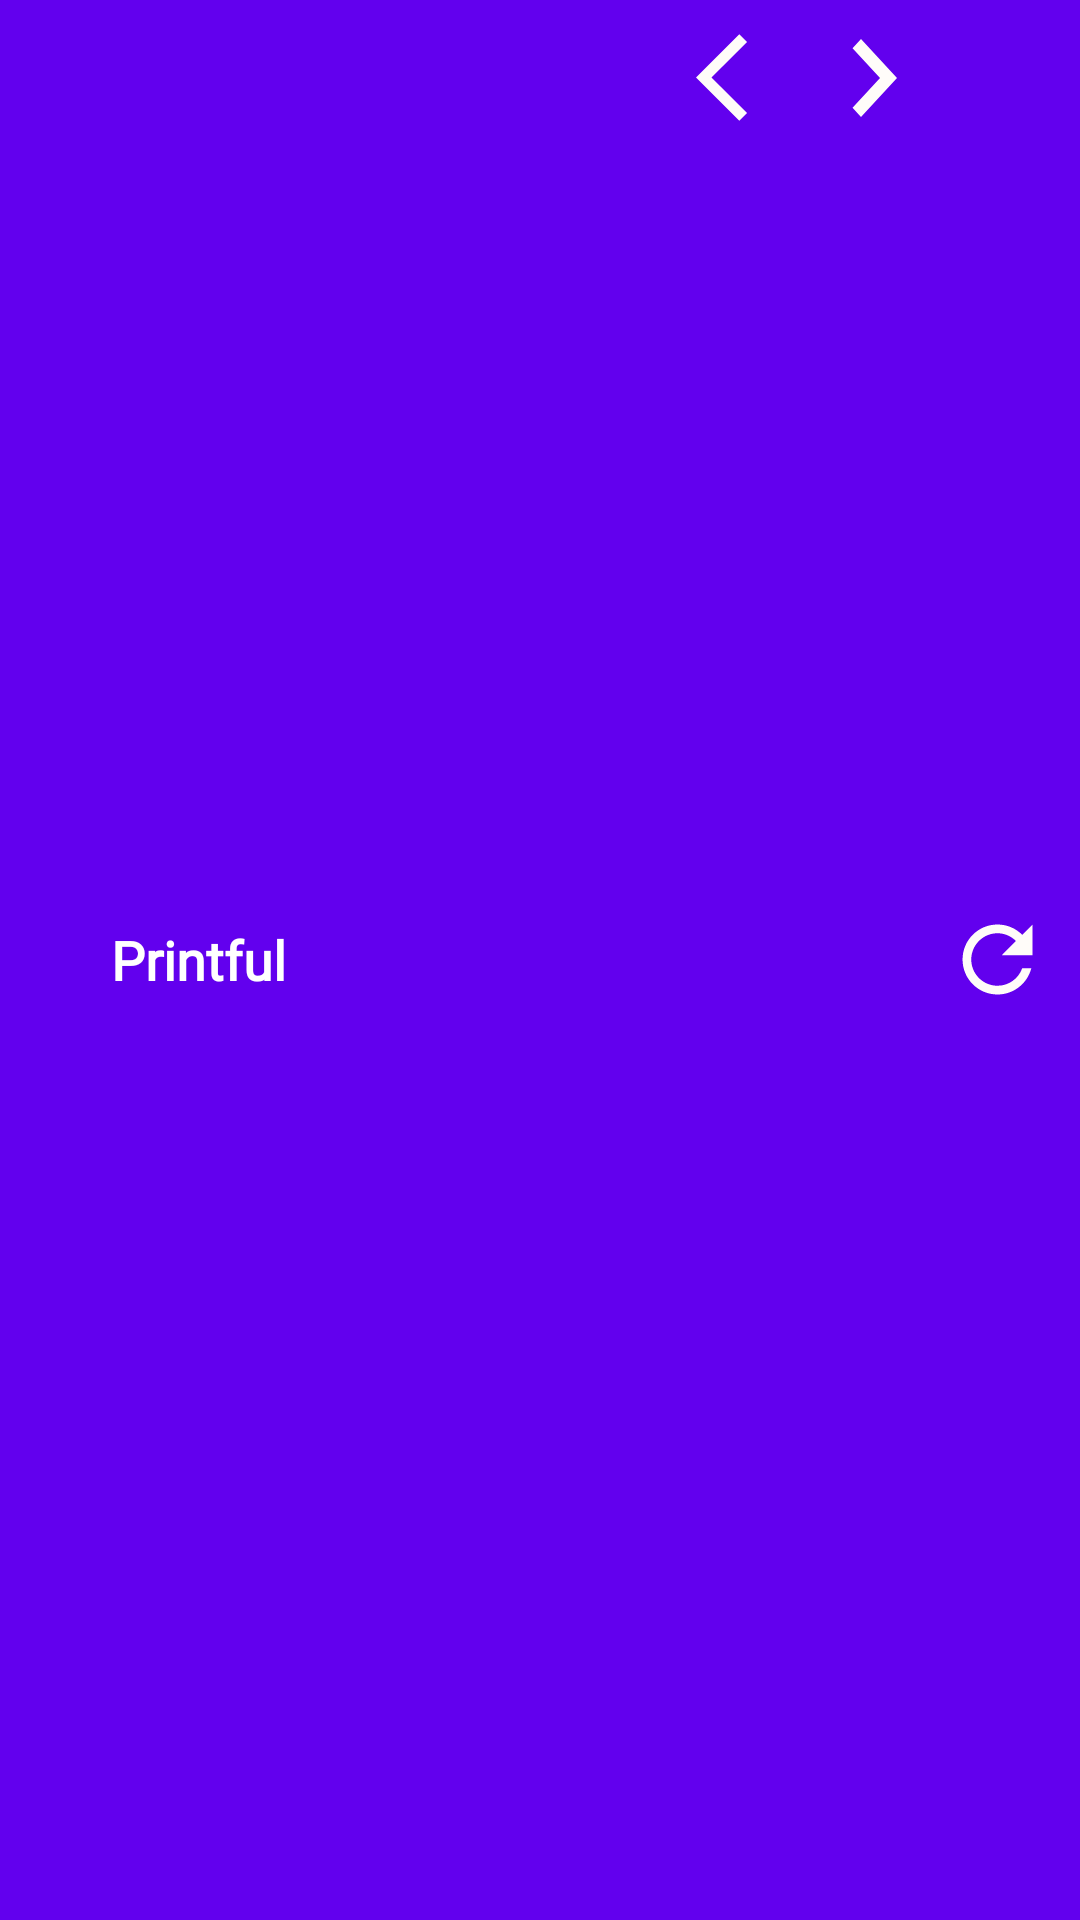

Icons on this 1080w x 1920h Android screen, each with the point to tap as (x,y):
next: (874,78)
prev: (721,77)
refresh: (997,959)
